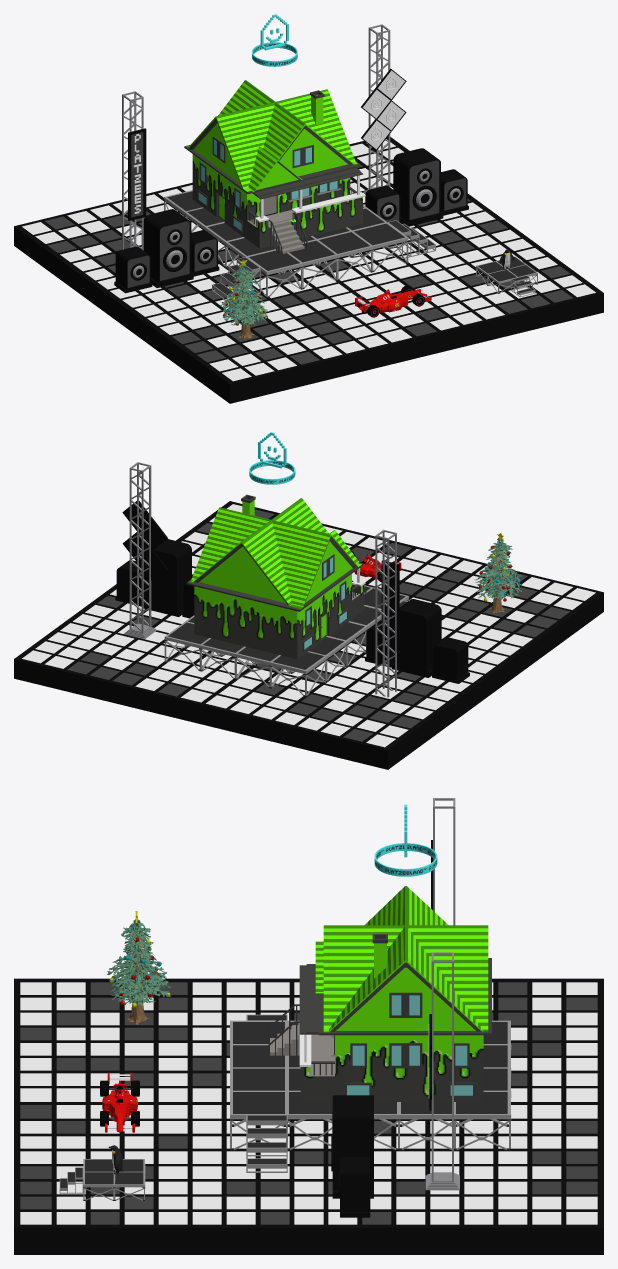
3 views of the same model, one above another, from view 1: azimuth 30°, elevation 25°; view 2: azimuth 150°, elevation 25°; view 3: azimuth 270°, elevation 25° (orthographic). The views are drawn at different scales.
Parts seen in each view (by area): view 1: Cube.008, Cube.754, OBJRANDOM_CHRISTMAS_TREE, VEHICLES_FORMULA_1, TYPE_PREMIUM; view 2: Cube.008, Cube.754, OBJRANDOM_CHRISTMAS_TREE, TYPE_PREMIUM; view 3: Cube.008, Cube.754, OBJRANDOM_CHRISTMAS_TREE, VEHICLES_FORMULA_1, TYPE_PREMIUM.
Part boxes in pixels (<box>): Cube.008: <box>14,24,603,403</box>; Cube.754: <box>184,80,365,254</box>; OBJRANDOM_CHRISTMAS_TREE: <box>219,259,269,338</box>; VEHICLES_FORMULA_1: <box>355,285,431,317</box>; TYPE_PREMIUM: <box>252,14,297,66</box>; Cube.008: <box>14,462,603,769</box>; Cube.754: <box>186,494,366,659</box>; OBJRANDOM_CHRISTMAS_TREE: <box>474,532,522,613</box>; TYPE_PREMIUM: <box>249,432,295,484</box>; Cube.008: <box>14,798,603,1254</box>; Cube.754: <box>267,886,491,1101</box>; OBJRANDOM_CHRISTMAS_TREE: <box>107,911,171,1024</box>; VEHICLES_FORMULA_1: <box>100,1072,139,1132</box>; TYPE_PREMIUM: <box>374,804,437,876</box>.
Size of the model in its own units: 4000 by 2515 by 4000.
41 materials, 3 textured.
